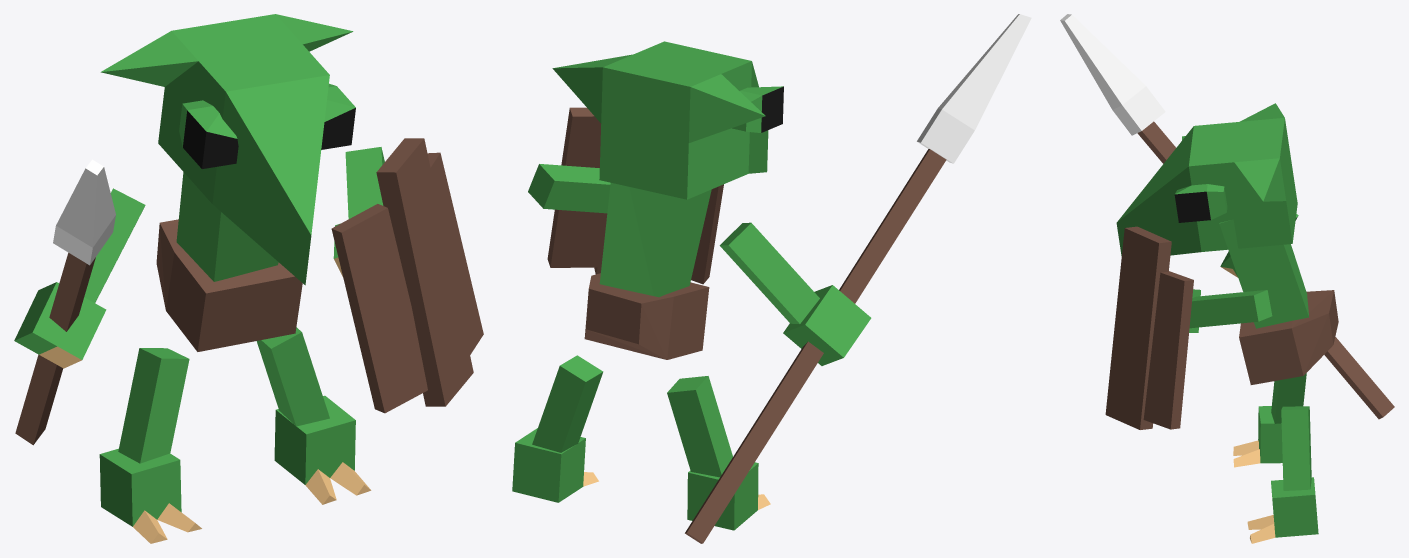
Rendered from kobold.glb.
The picture shows the model from 3 angles, left to right: view 1: azimuth 30°, elevation 25°; view 2: azimuth 150°, elevation 25°; view 3: azimuth 270°, elevation 25°; orthographic projection. The views are drawn at different scales.
Parts seen in each view (by area): view 1: group791971444, group1386594546, group861820288, group1022984813, group1575904860, group171758865, group865919773, group487462878; view 2: group791971444, group861820288, group171758865, group865919773, group1575904860, group1022984813, group1386594546, group487462878; view 3: group791971444, group1386594546, group861820288, group171758865, group1575904860, group1022984813, group487462878.
Part boxes in pixels (x1,y1,x2,y2): group791971444: (100, 14, 355, 285); group1386594546: (331, 138, 483, 413); group861820288: (156, 172, 302, 351); group1022984813: (99, 348, 201, 543); group1575904860: (256, 327, 371, 504); group171758865: (15, 159, 115, 445); group865919773: (14, 188, 145, 368); group487462878: (333, 147, 384, 277); group791971444: (552, 41, 783, 199); group861820288: (584, 183, 711, 359); group171758865: (685, 14, 1031, 543); group865919773: (719, 222, 871, 365); group1575904860: (512, 355, 603, 502); group1022984813: (667, 376, 770, 530); group1386594546: (547, 107, 723, 284); group487462878: (528, 164, 610, 213); group791971444: (1116, 103, 1297, 255); group1386594546: (1105, 226, 1193, 429); group861820288: (1219, 219, 1338, 384); group171758865: (1060, 14, 1394, 419); group1575904860: (1247, 406, 1318, 543); group1022984813: (1233, 373, 1306, 467); group487462878: (1189, 289, 1272, 332).
Bounding box in the file's own units: 0.7413 × 0.7833 × 0.6186.
